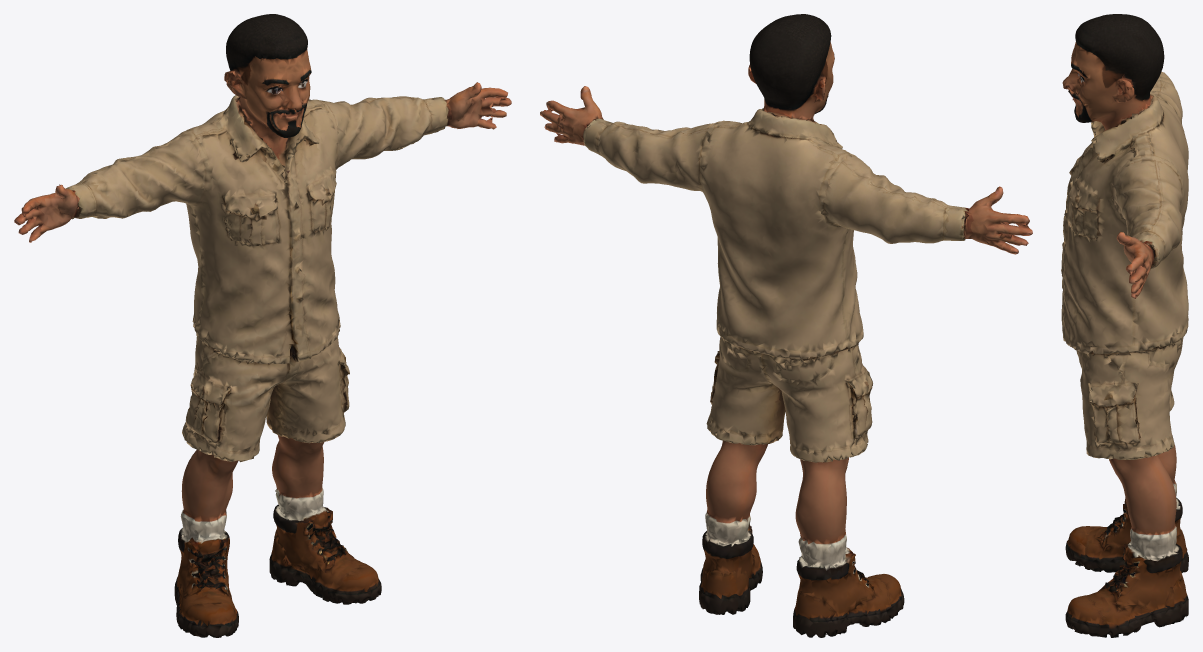
The model's file is mr_biomaster.glb.
The picture shows the model from 3 angles, left to right: view 1: azimuth 30°, elevation 25°; view 2: azimuth 150°, elevation 25°; view 3: azimuth 270°, elevation 25°; orthographic projection.
Visible parts, largest first — view 1: MrBiomaster; view 2: MrBiomaster; view 3: MrBiomaster.
Boxes of the visible parts, left/top/right/bottom form: MrBiomaster: left=14, top=14, right=511, bottom=637; MrBiomaster: left=540, top=14, right=1032, bottom=637; MrBiomaster: left=1061, top=14, right=1188, bottom=637.
Size of the model in its own units: 1.97 by 2.22 by 0.4467.
Materials: 1 (1 with a texture image).
